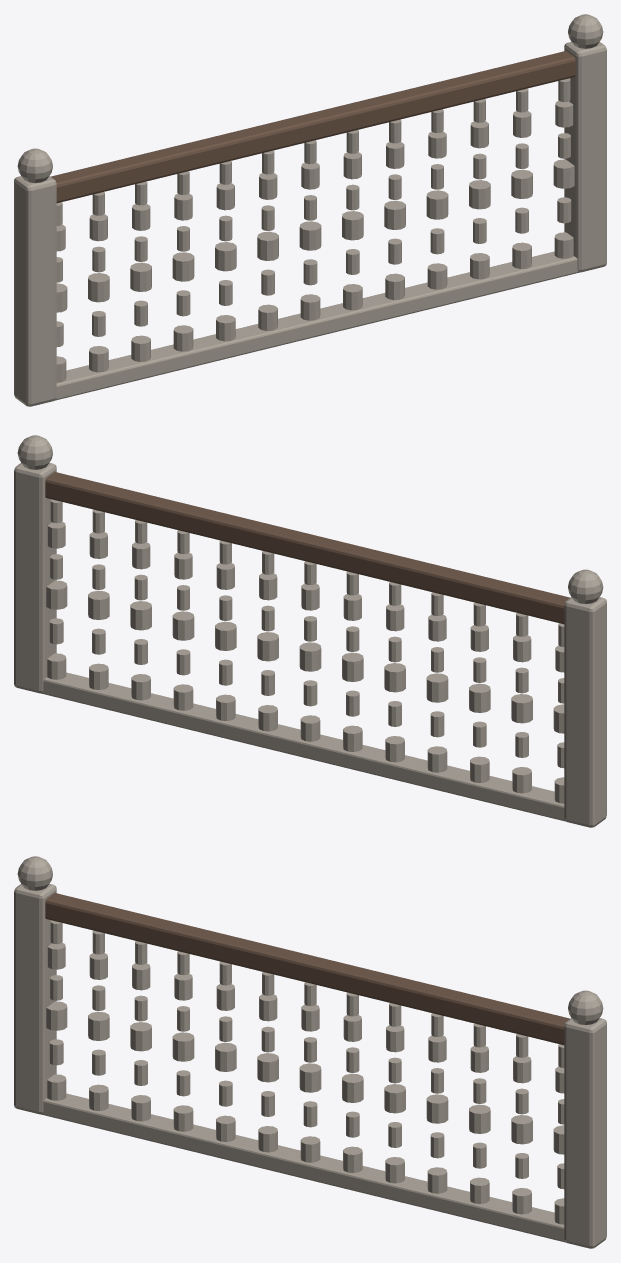
3 views of the same model, one above another, from view 1: azimuth 30°, elevation 25°; view 2: azimuth 150°, elevation 25°; view 3: azimuth 330°, elevation 25° (orthographic).
Parts seen in each view (by area): view 1: balustrade; view 2: balustrade; view 3: balustrade.
Part boxes in pixels (left/top/right/bottom): balustrade: left=14, top=14, right=606, bottom=406; balustrade: left=14, top=435, right=606, bottom=827; balustrade: left=14, top=856, right=606, bottom=1248.
Size of the model in its own units: 3.02 by 1.24 by 0.16.
